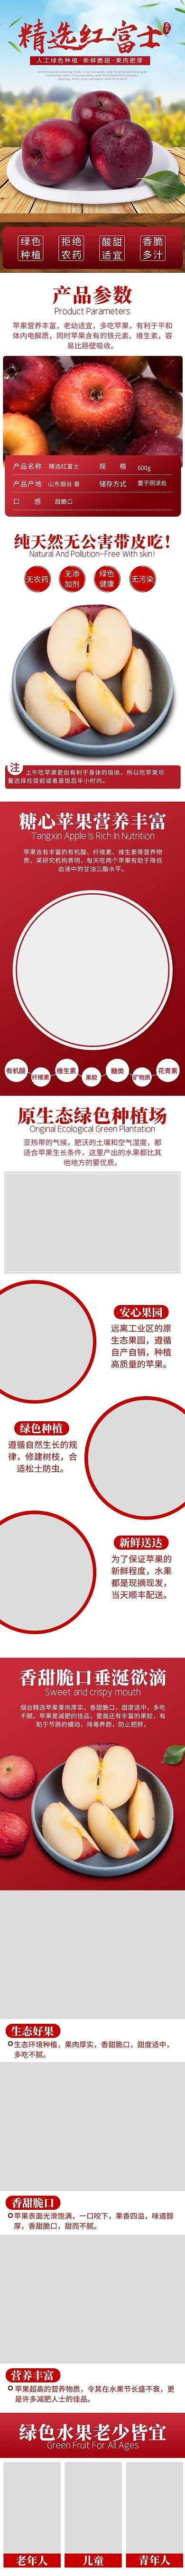apple: (8, 97, 175, 202), (47, 368, 136, 448)
